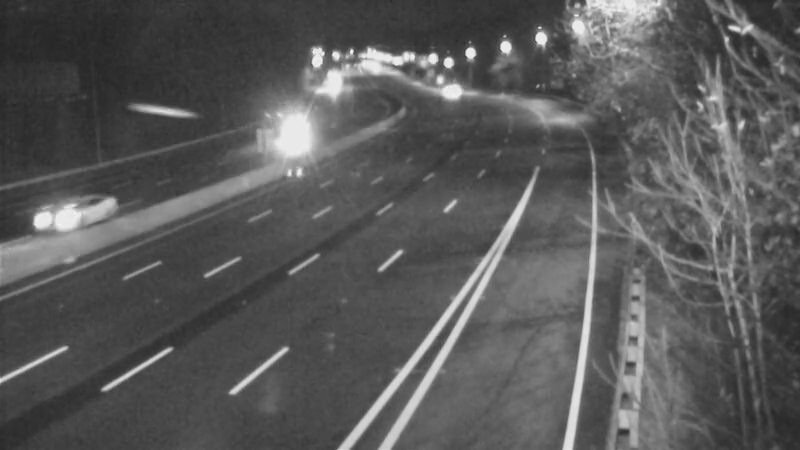vehicle: (23, 174, 103, 254), (425, 65, 475, 115), (270, 111, 320, 161), (309, 54, 359, 104)
